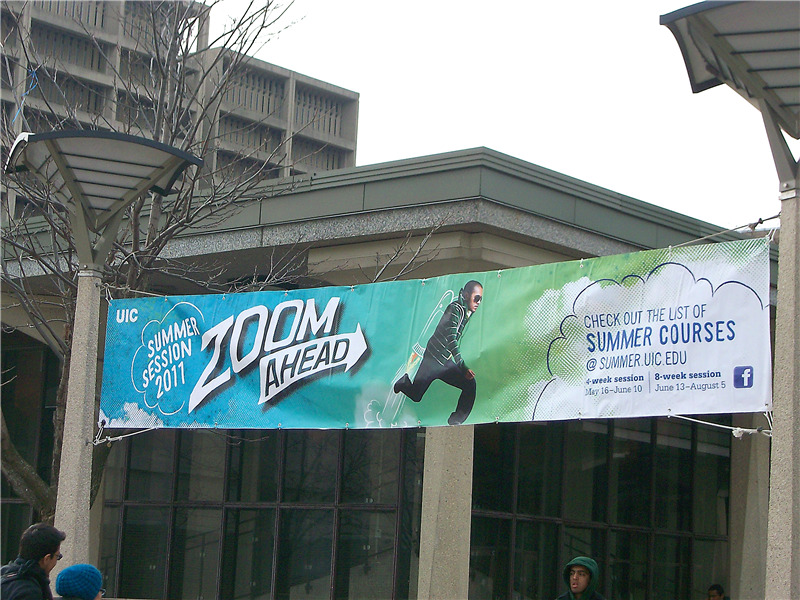vinyl banner: (80, 238, 775, 450)
